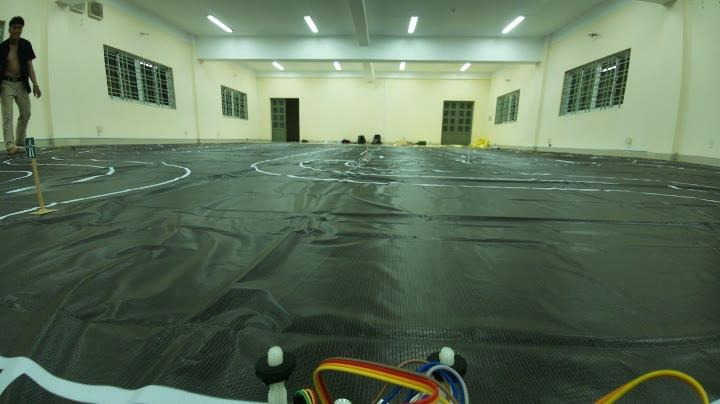highway_entry: (22, 136, 44, 160)
